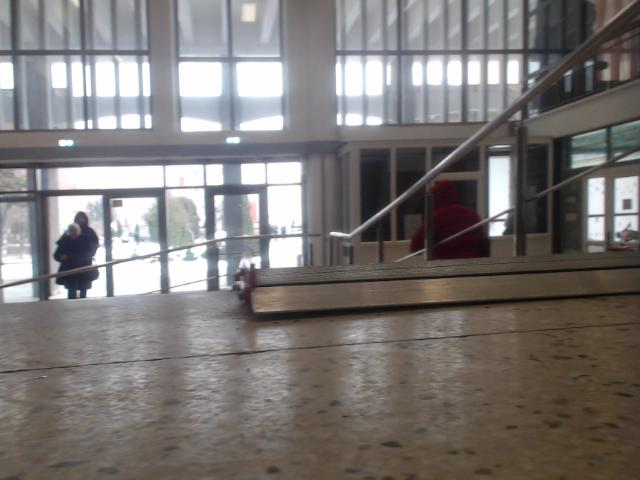rampDown: (248, 253, 639, 314)
ramps-railing: (332, 0, 639, 259), (96, 234, 319, 269), (0, 264, 96, 288), (511, 113, 527, 255), (377, 226, 383, 262)
